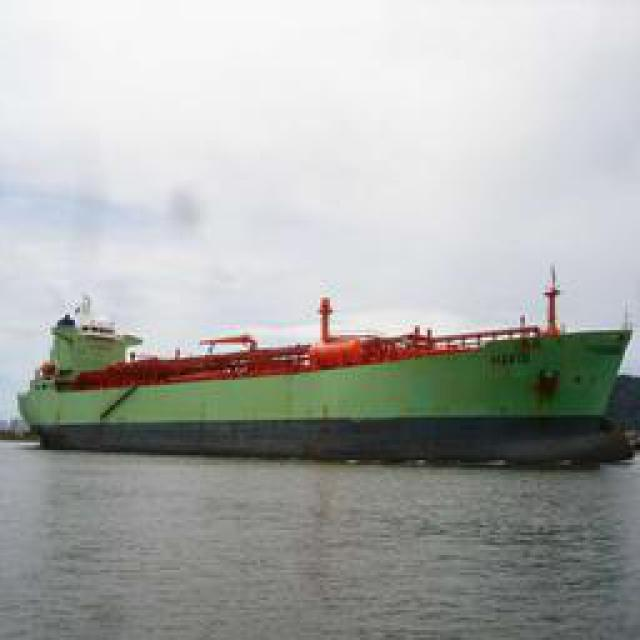Ship: (9, 266, 634, 461)
